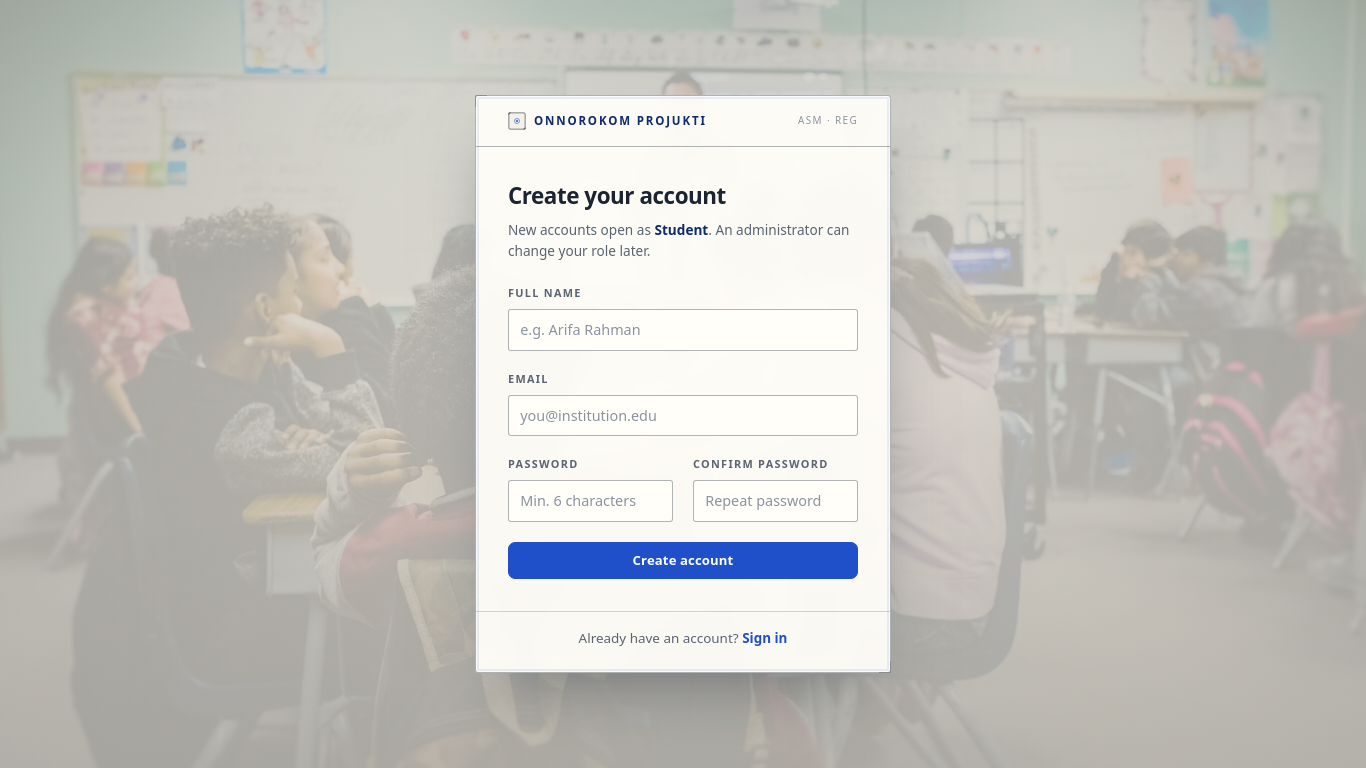
it: RegisterPage › shows an error for short passwords
This screenshot has width=1366, height=768.
In the field labelled "Full name": (683, 330) [508,309,858,351], type "Arifa Rahman"
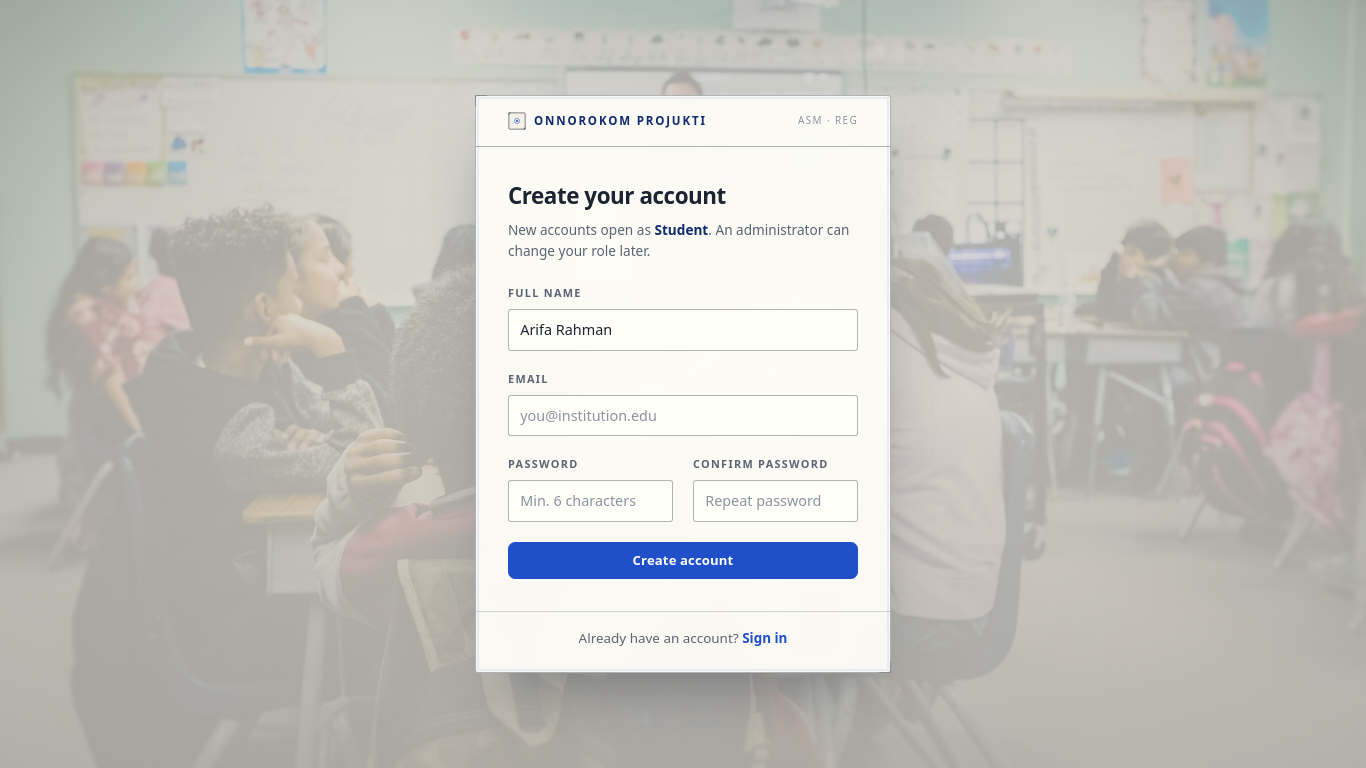
In the field labelled "Email": (683, 415) [508,395,858,436], type "arifa@example.com"
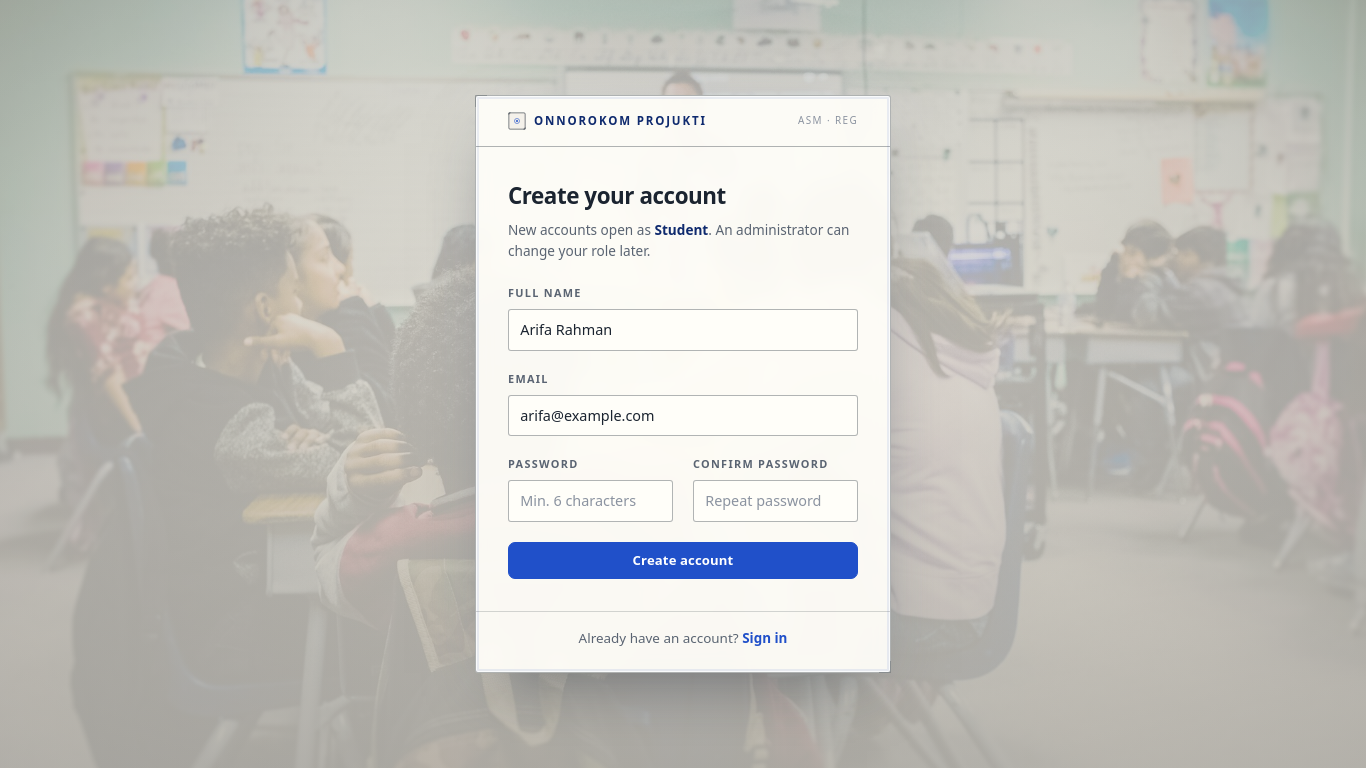
In the password field labelled "Password": (590, 501) [508,480,673,522], type "abc"
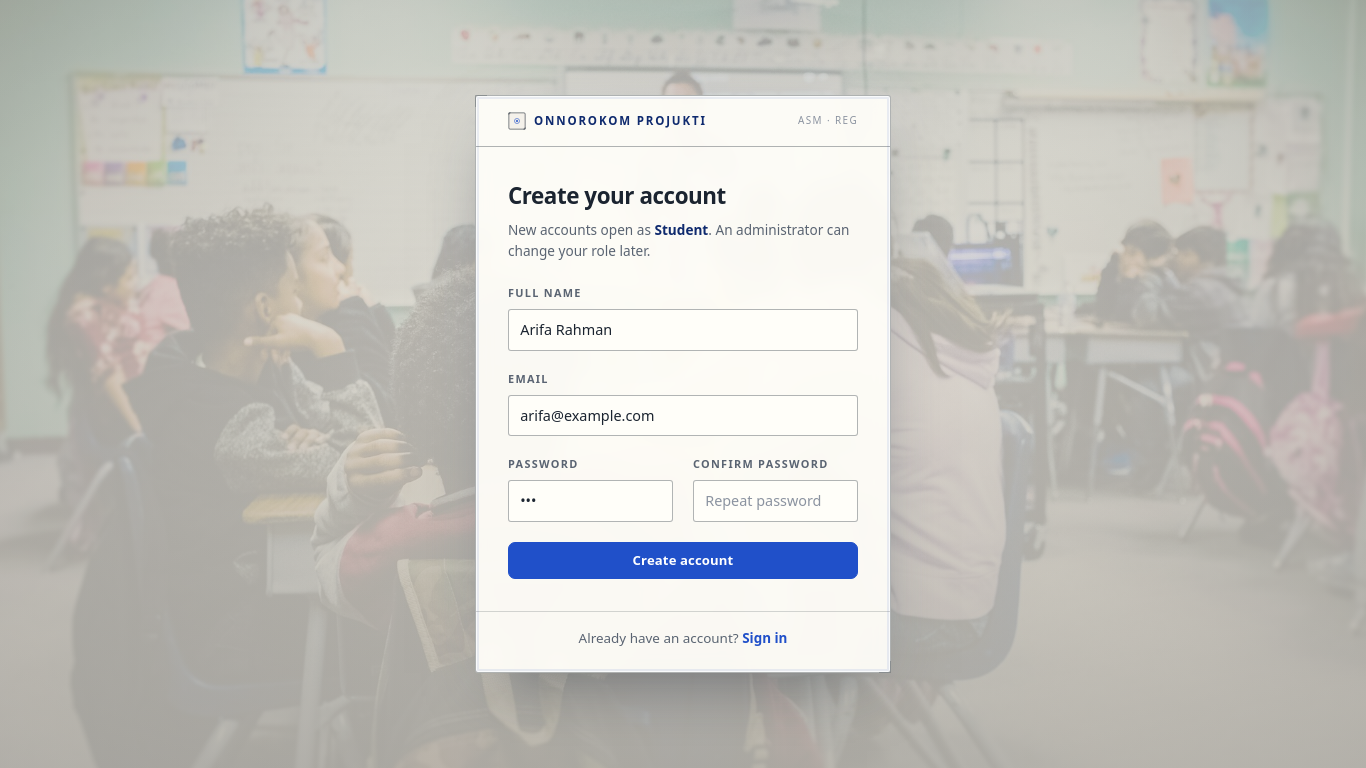
In the password field labelled "Confirm password": (776, 501) [693,480,858,522], type "abc"
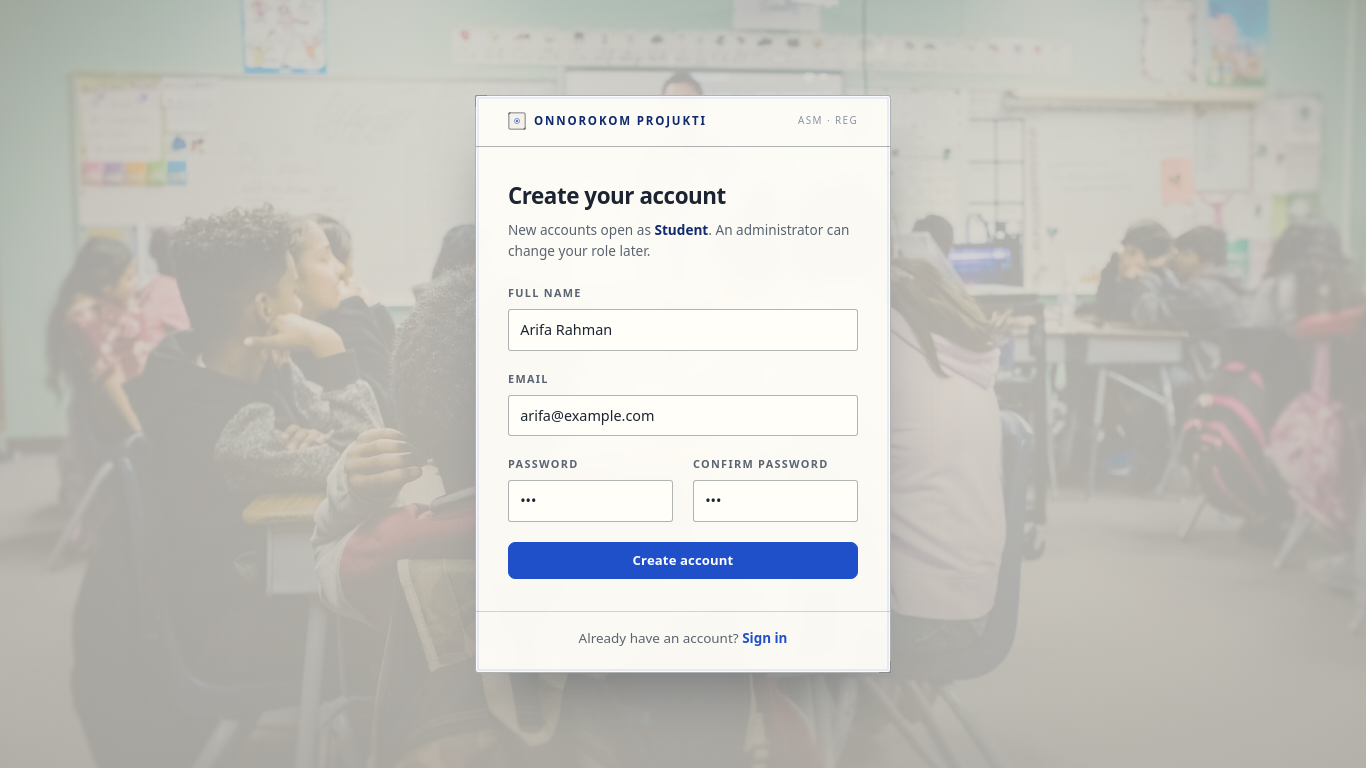
Click the button "Create account": (683, 560) [508,542,858,579]
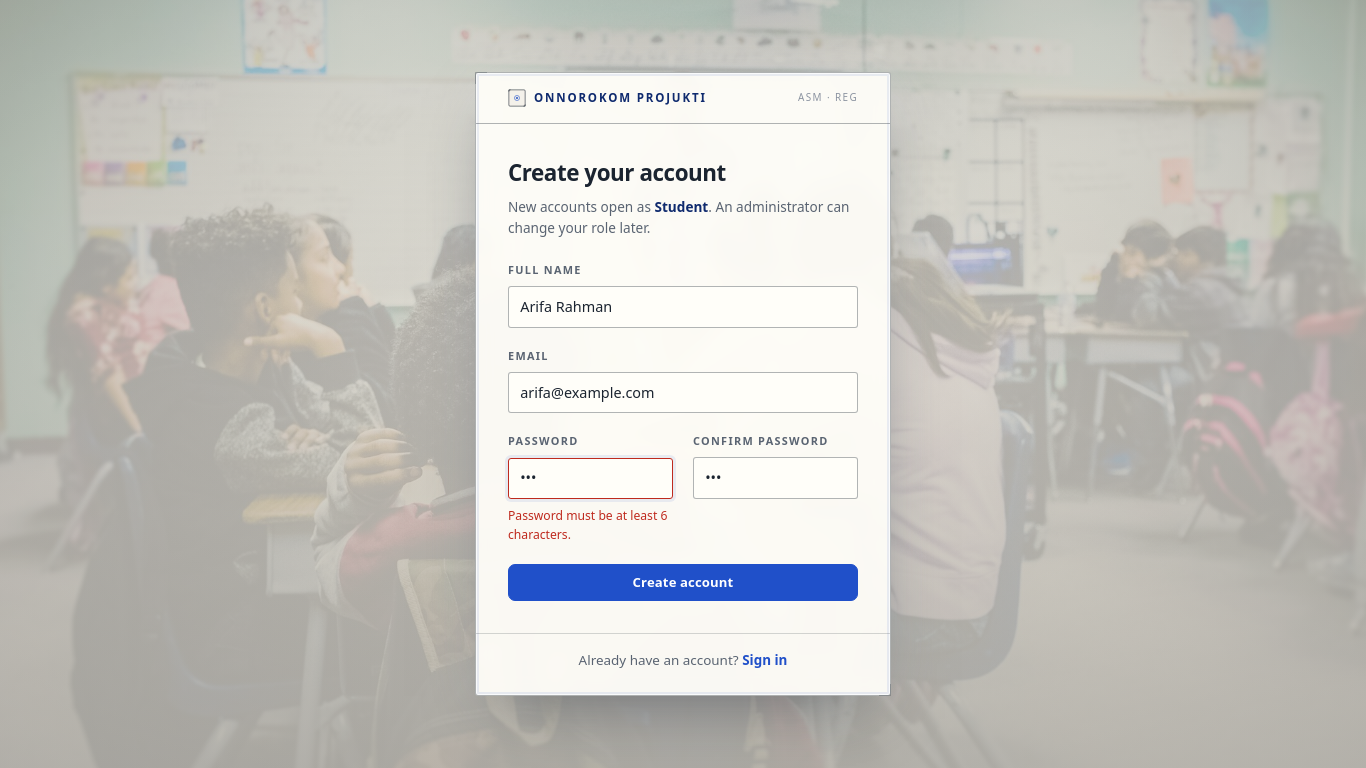
Expected: the text "Password must be at least 6 characters." is shown, [508,507,673,544]
